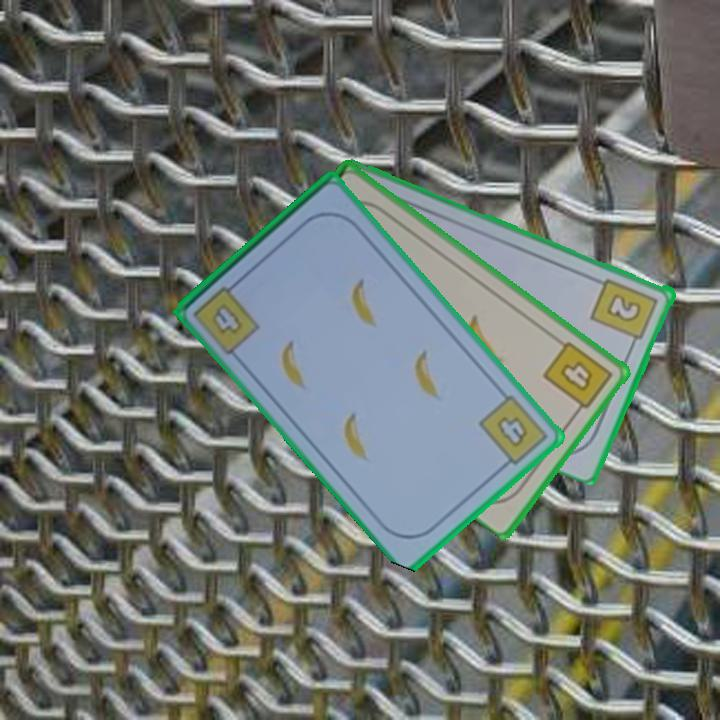2b: (588, 275, 661, 350)
4b: (475, 390, 552, 473), (539, 337, 616, 418), (208, 299, 246, 338)
